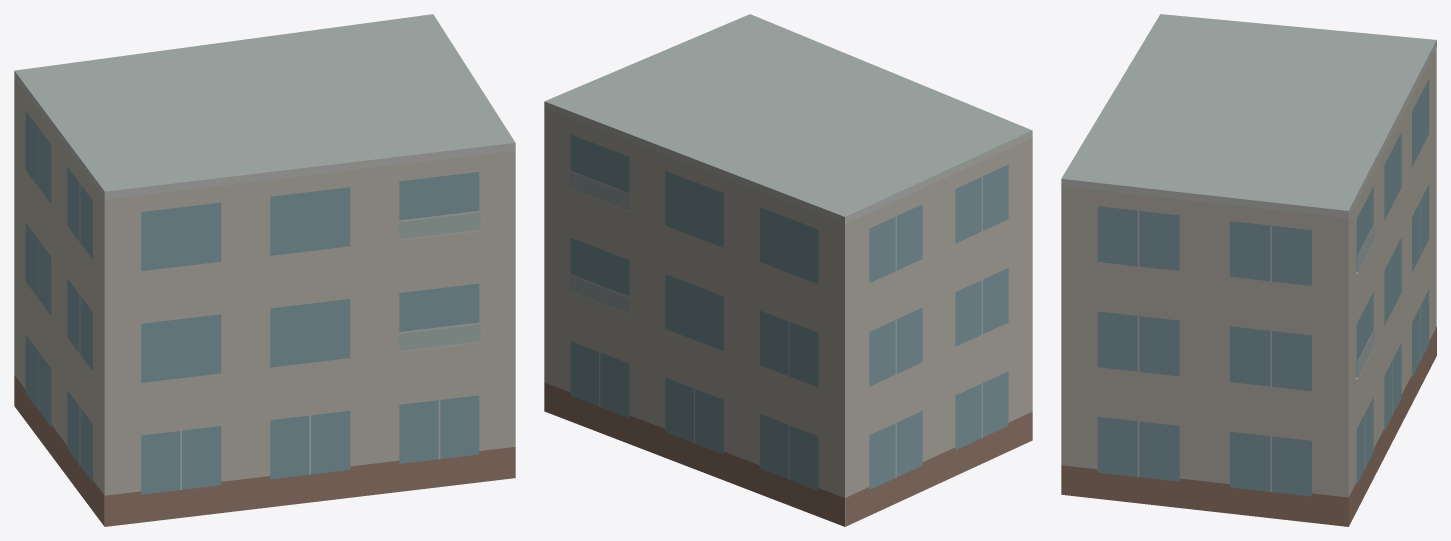
File: survey-upis-32825667.glb
3 renders of one model, left to right at view 1: azimuth 30°, elevation 25°; view 2: azimuth 150°, elevation 25°; view 3: azimuth 270°, elevation 25°, orthographic. The views are drawn at different scales.
Visible parts, largest first — view 1: survey-upis-32825667.tmp; view 2: survey-upis-32825667.tmp; view 3: survey-upis-32825667.tmp.
Boxes of the visible parts, left/top/right/bottom form: survey-upis-32825667.tmp: left=14, top=14, right=515, bottom=526; survey-upis-32825667.tmp: left=544, top=14, right=1032, bottom=526; survey-upis-32825667.tmp: left=1061, top=14, right=1436, bottom=526.
Bounding box in the file's own units: 14.12 × 10.55 × 11.38.
